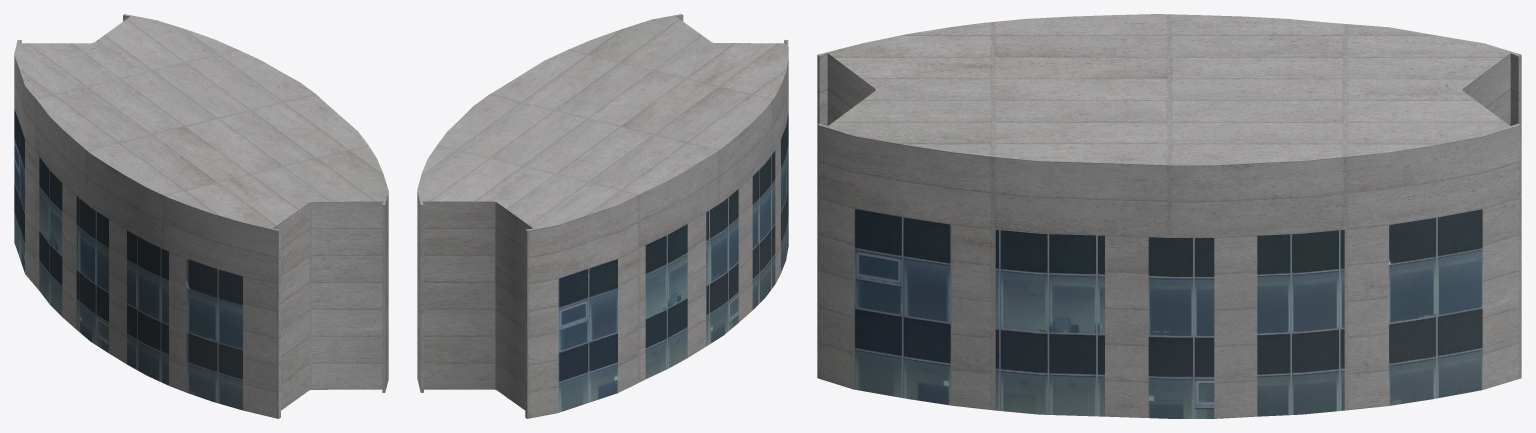
File: builder_23.FBX
3 renders of one model, left to right at view 1: azimuth 30°, elevation 25°; view 2: azimuth 150°, elevation 25°; view 3: azimuth 270°, elevation 25°, orthographic. The views are drawn at different scales.
Parts seen in each view (by area): view 1: builder_23; view 2: builder_23; view 3: builder_23.
Part boxes in pixels (x1,y1,x2,y2): builder_23: [14, 14, 388, 418]; builder_23: [417, 14, 788, 418]; builder_23: [817, 14, 1521, 418].
Size of the model in its own units: 11315 by 8828 by 22221.
